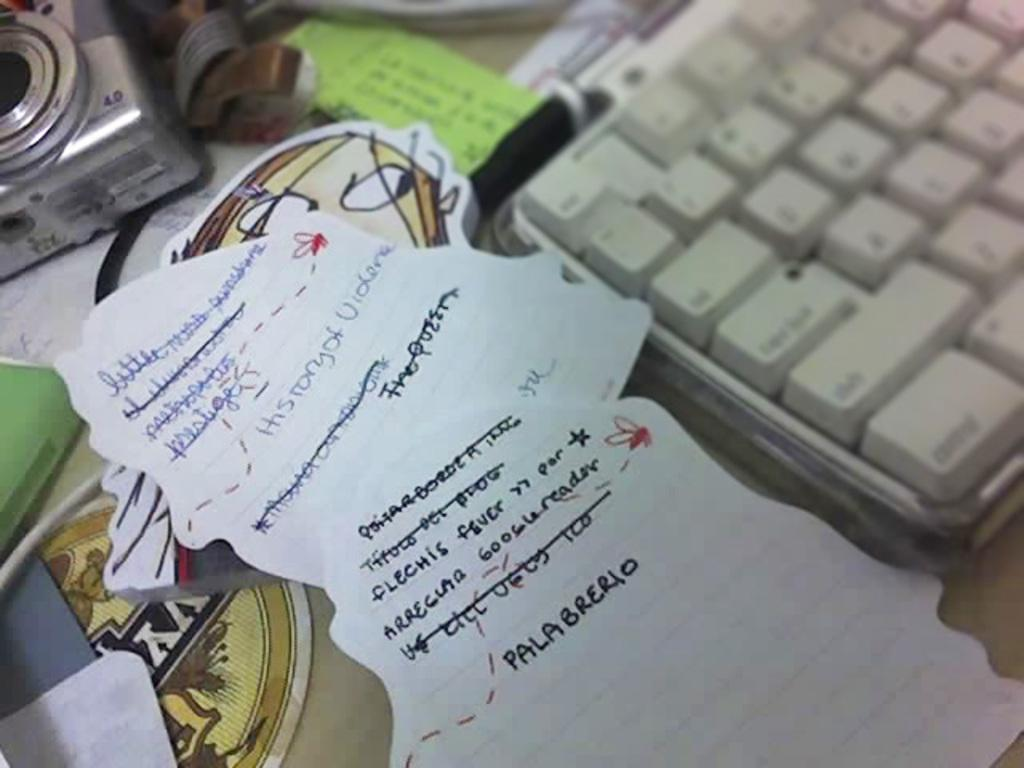Computer-keyboard: (490, 0, 1022, 571)
